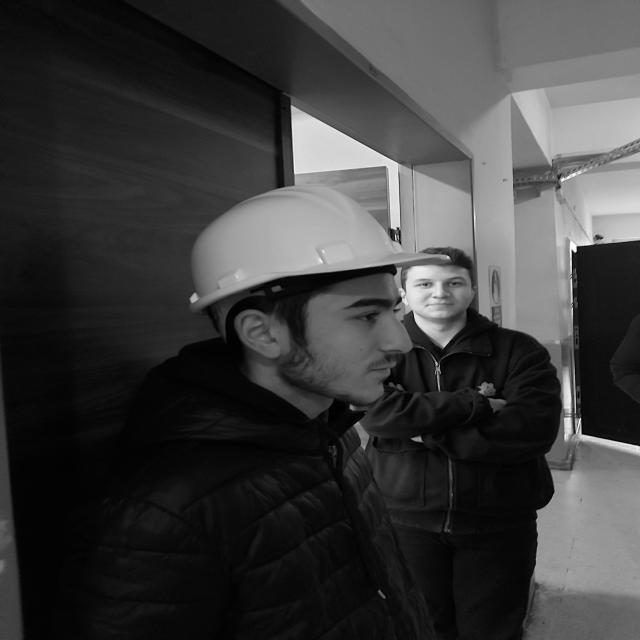safety_helmet: (190, 186, 437, 335)
